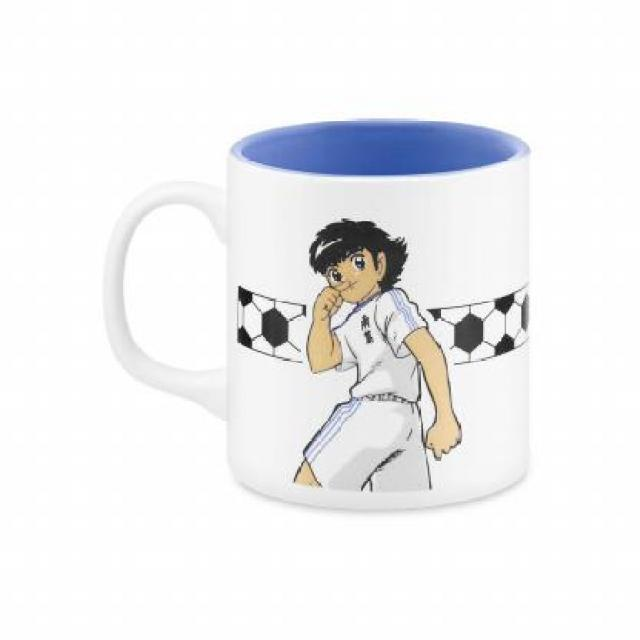taza: (97, 101, 557, 524)
